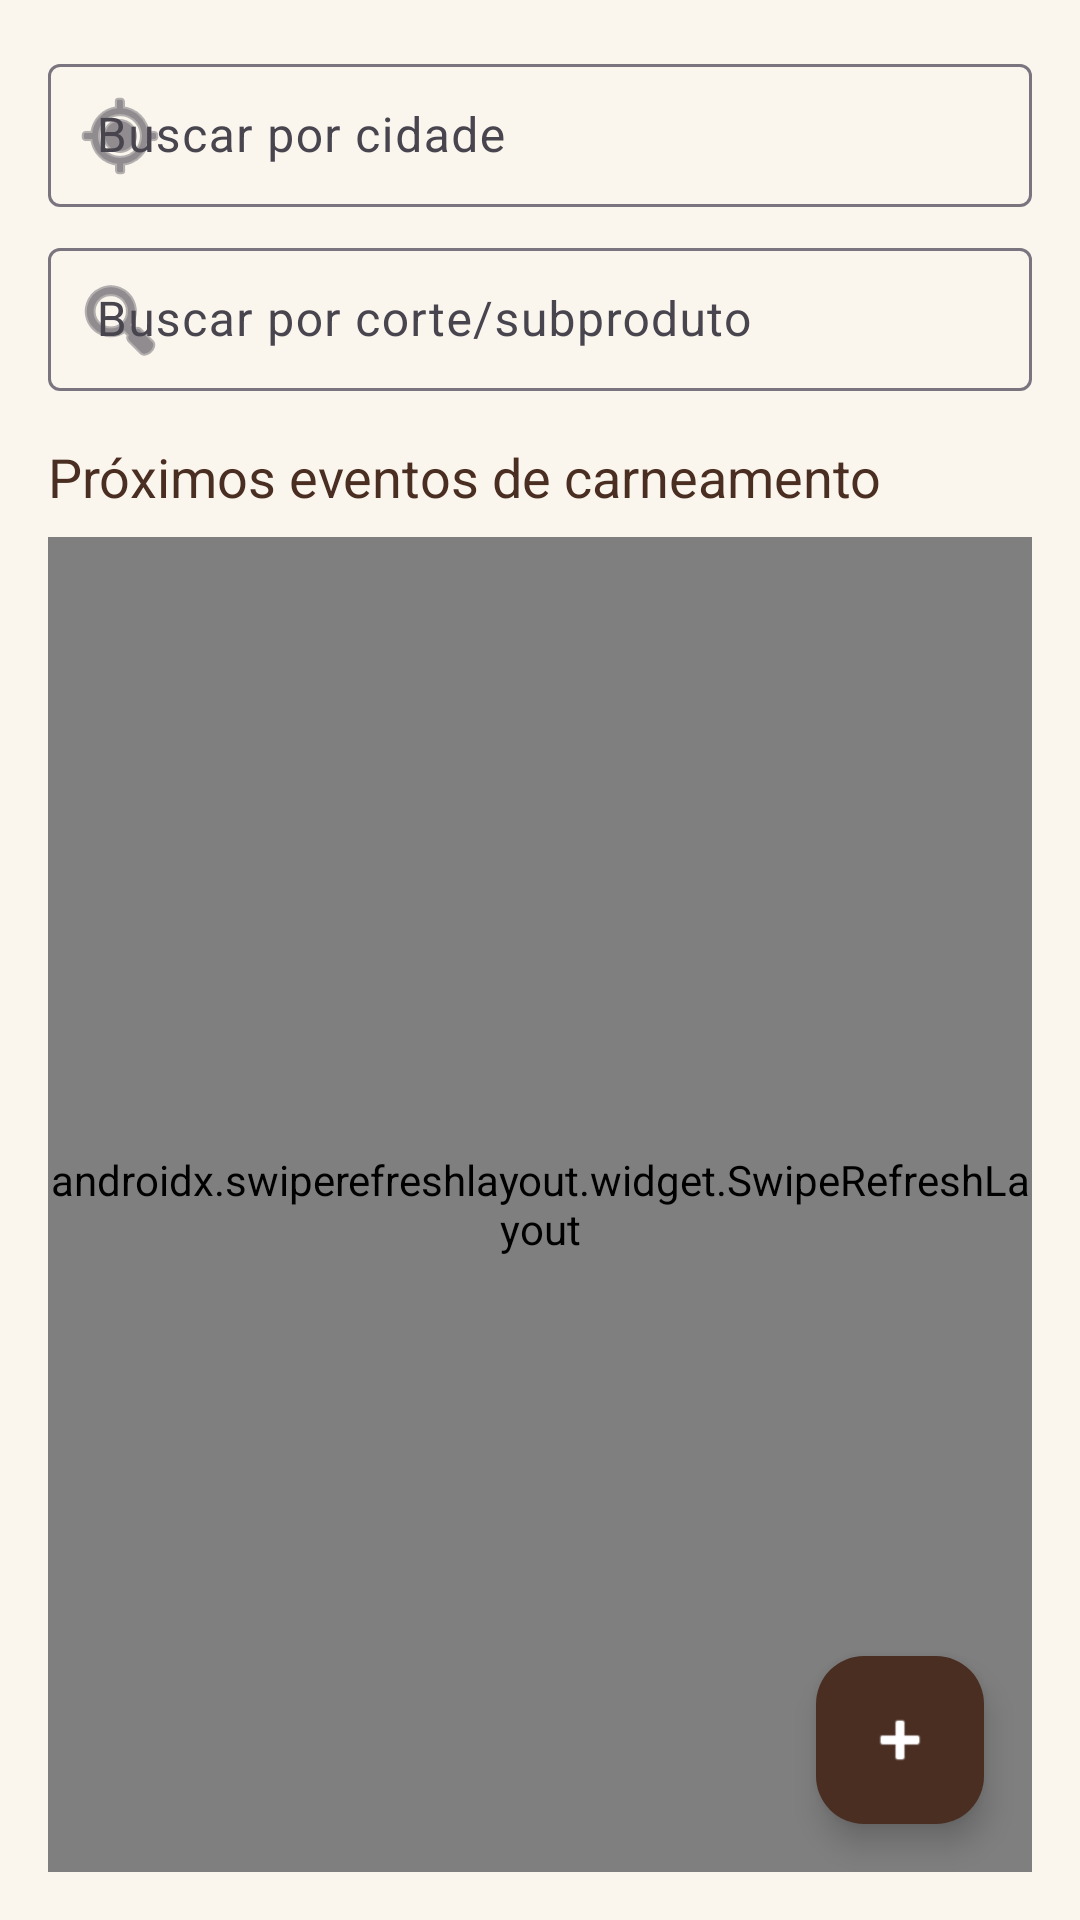

Icons on this 1080x1920 Android screen, each with the point to tap as point (x, y):
Cadastrar evento: point (900, 1740)
